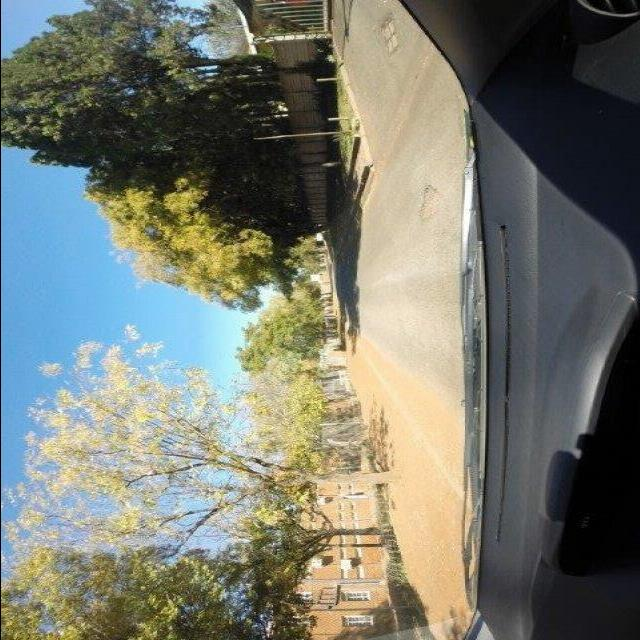lubang: (414, 181, 438, 230)
